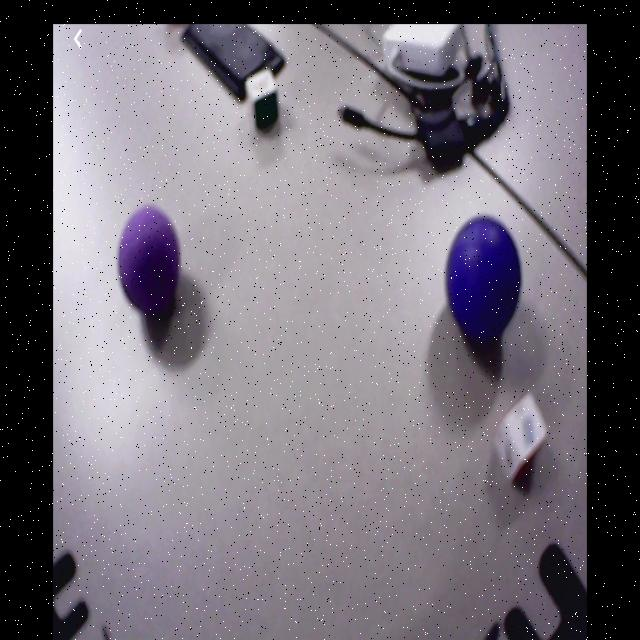ball: (446, 218, 523, 342), (118, 206, 180, 316)
